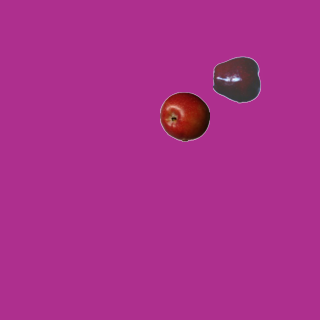Apple Braeburn: (159, 91, 209, 141)
Apple Red Delicious: (212, 54, 262, 104)
